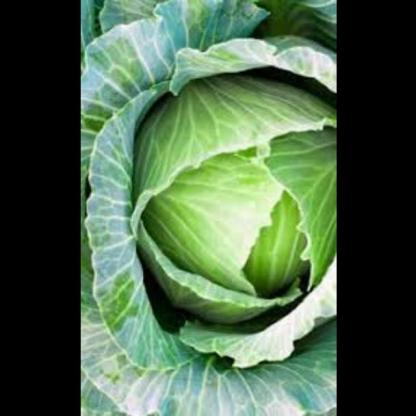cabbage: (83, 33, 335, 383)
